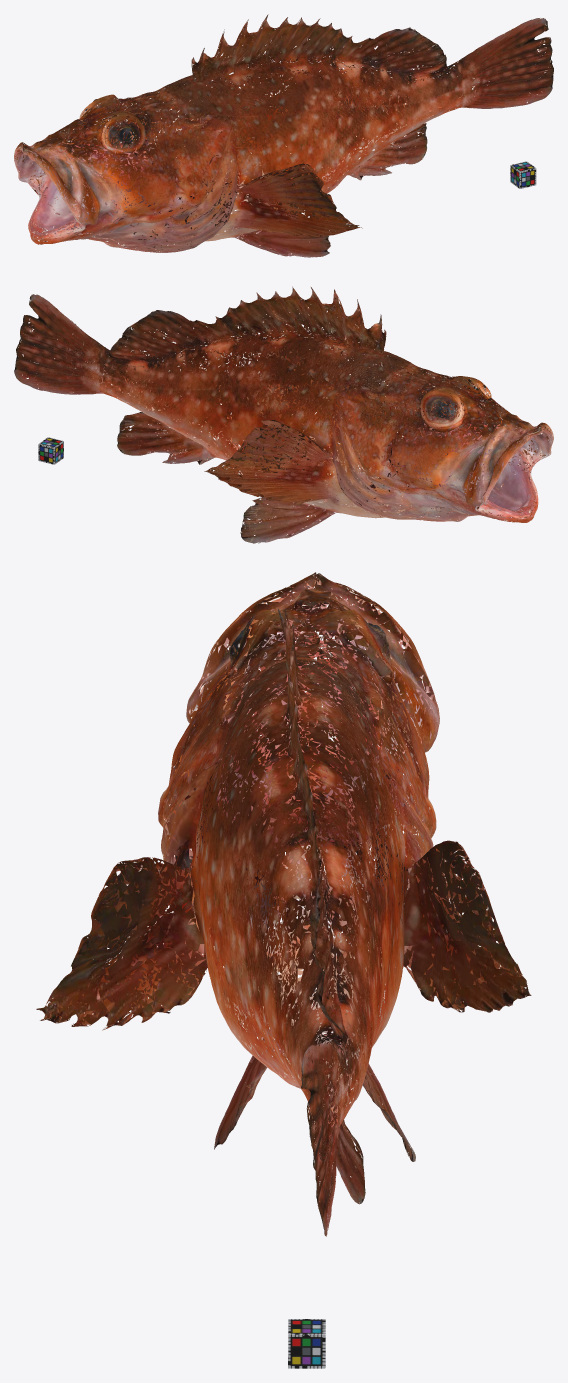
Rendered from scan_rock_ukkari.glb.
3 views of the same model, one above another, from view 1: azimuth 30°, elevation 25°; view 2: azimuth 150°, elevation 25°; view 3: azimuth 270°, elevation 25° (orthographic). The views are drawn at different scales.
Visible parts, largest first — view 1: Object_10, Object_6, Object_15, Object_4; view 2: Object_10, Object_15, Object_6, Object_4; view 3: Object_10, Object_15, Object_6, Object_4.
Part boxes in pixels (x1,y1,x2,y2): Object_10: (14,14,553,257); Object_6: (14,17,553,257); Object_15: (14,15,553,257); Object_4: (510,161,536,188); Object_10: (14,286,552,543); Object_15: (16,287,553,543); Object_6: (14,291,553,542); Object_4: (38,437,63,464); Object_10: (37,572,530,1235); Object_15: (39,573,531,1221); Object_6: (36,574,525,1236); Object_4: (288,1319,325,1368).
Bounding box in the file's own units: 11.77 × 5.19 × 4.8.
Materials: 4 (4 with a texture image).
